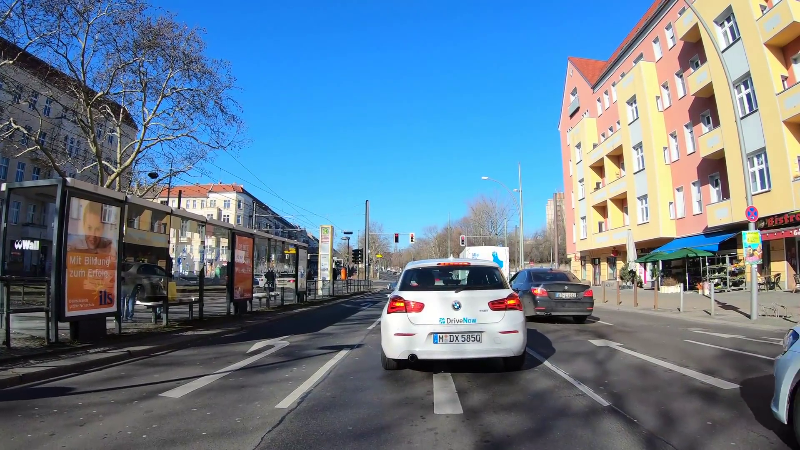Plate: (431, 332, 482, 345)
